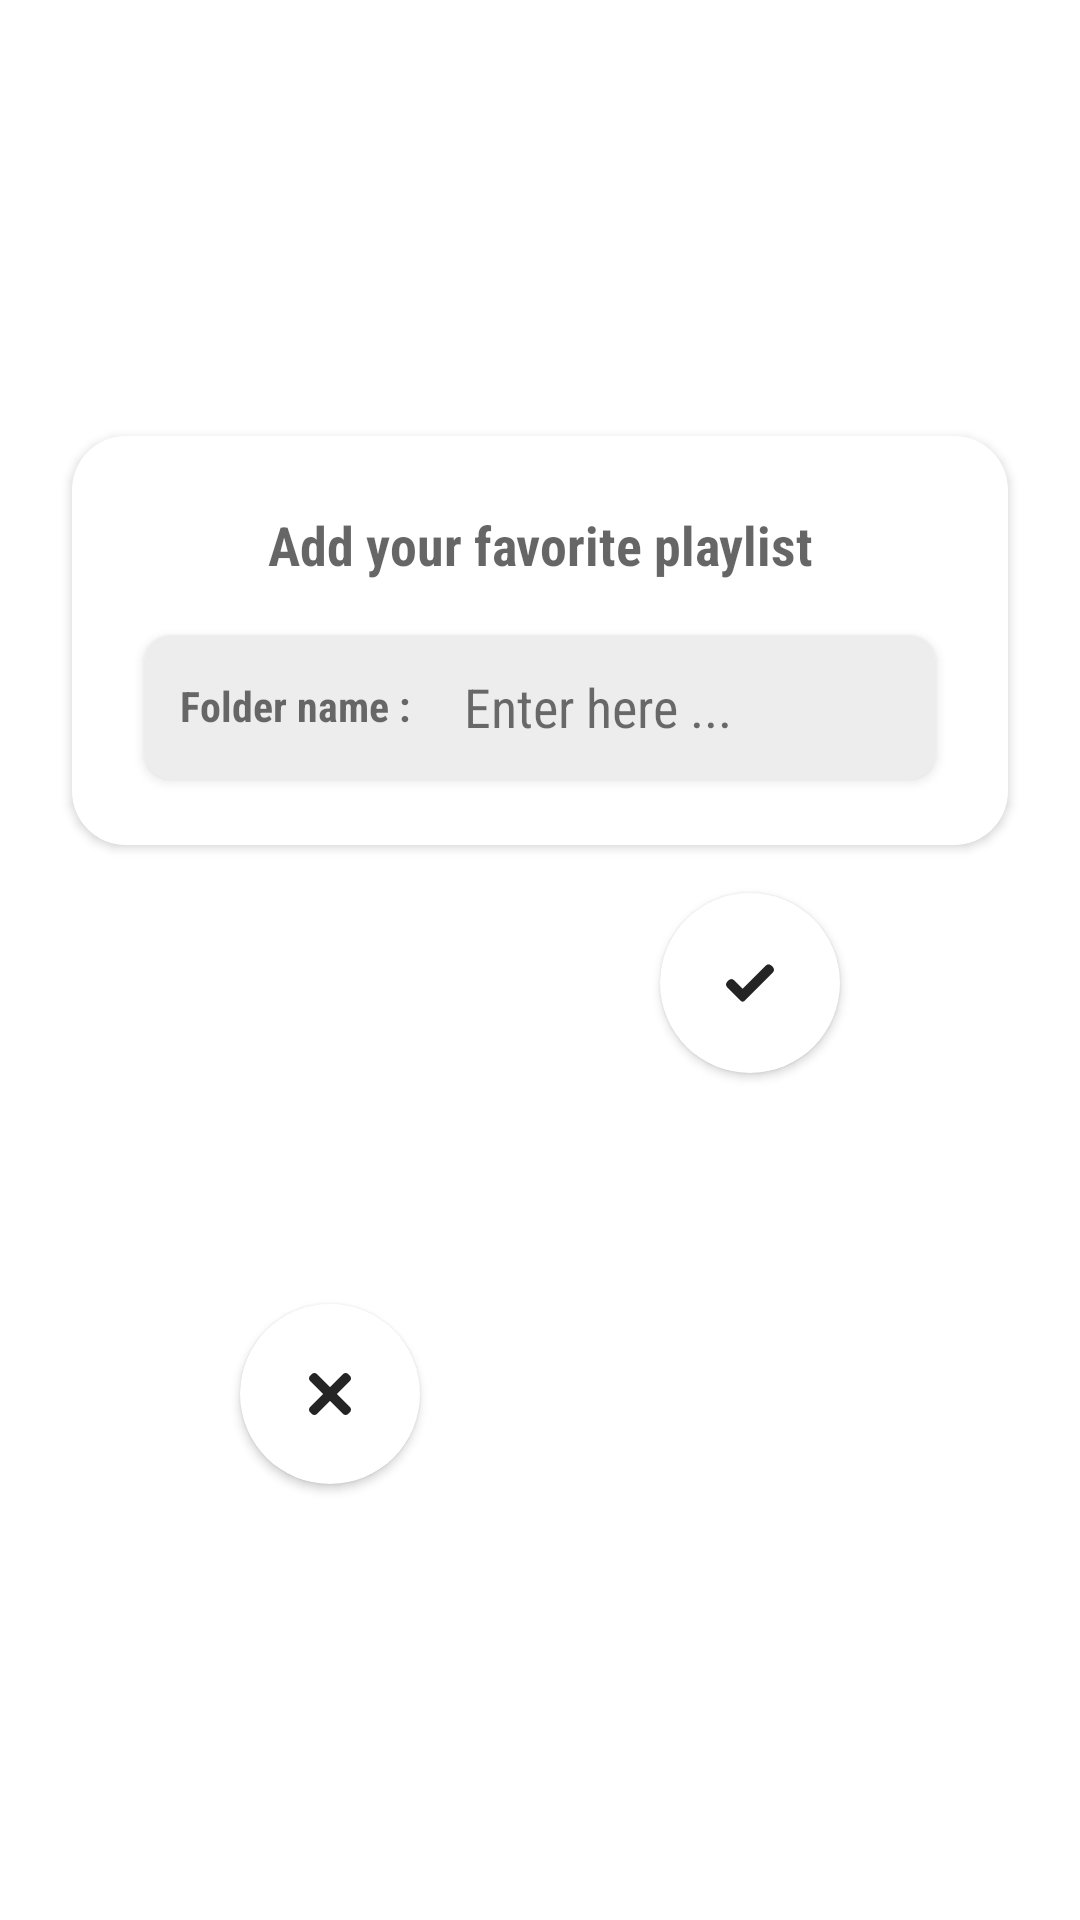

Point at icon controls on the screen. Image size 1080x1920, points as (x=x, y=y).
check: (x=750, y=983)
close: (x=330, y=1394)
